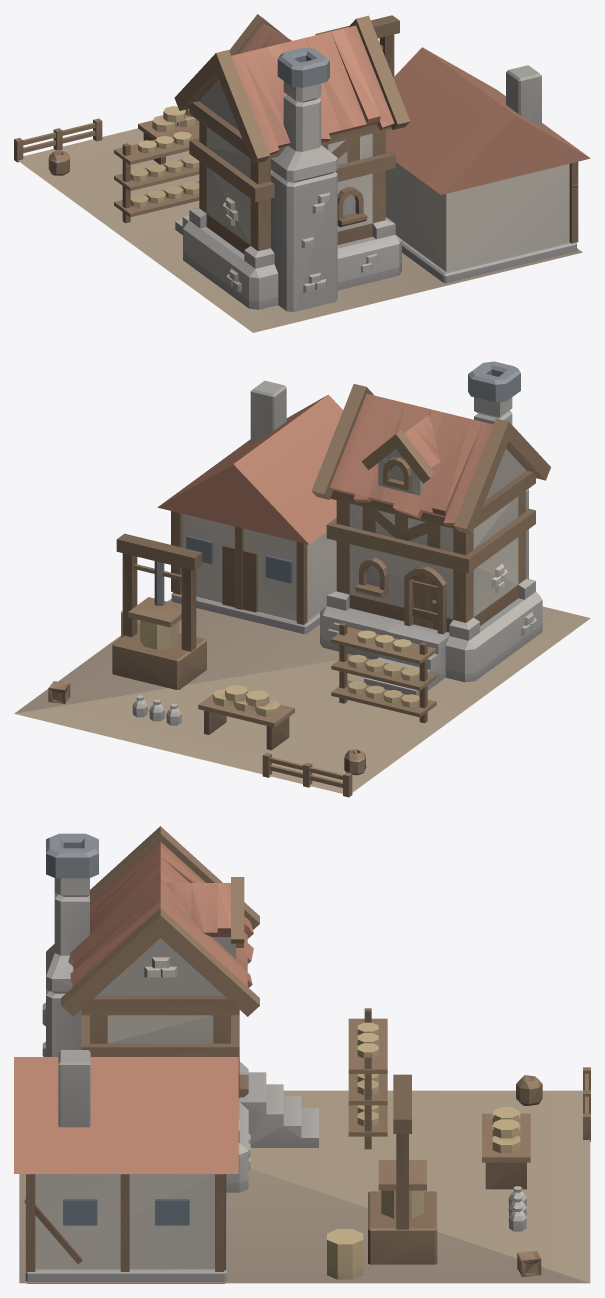
The model's file is cheese_dairy.glb.
The picture shows the model from 3 angles, top to bottom: view 1: azimuth 30°, elevation 25°; view 2: azimuth 150°, elevation 25°; view 3: azimuth 270°, elevation 25°; orthographic projection. The views are drawn at different scales.
Visible parts, largest first — view 1: cheese_dairy; view 2: cheese_dairy; view 3: cheese_dairy.
Part boxes in pixels (x1=…): cheese_dairy: x1=14, y1=14, x2=590, y2=332; cheese_dairy: x1=14, y1=361, x2=590, y2=797; cheese_dairy: x1=14, y1=826, x2=590, y2=1283.
Size of the model in its own units: 4.03 by 2.8 by 5.01.
